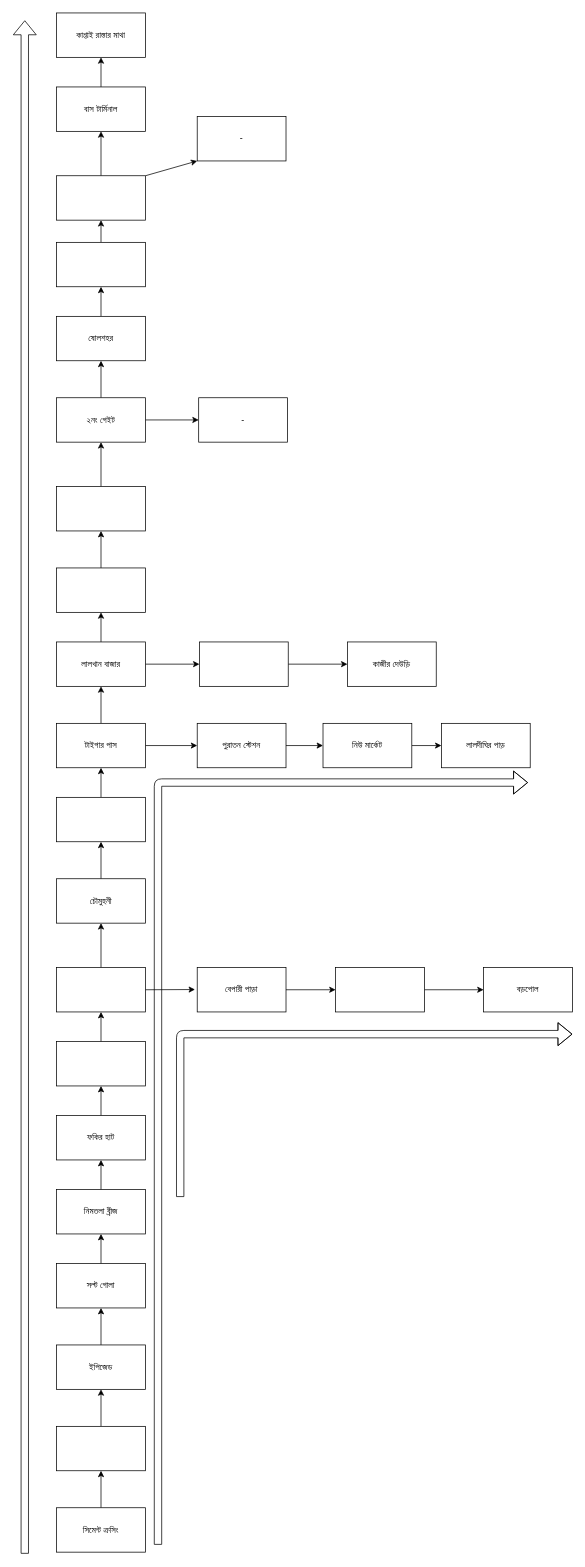
The diagram is 585 pixels wide and 1567 high, and some of its shapes have lost their labels. The shapes that lost their labels are listed below. From the top down, each one's centre as x and y in pixels, then its label:
At point 100,197: "বহদ্দারহাট".
At point 100,264: "মুরাদপুর".
At point 100,508: "জিইসি".
At point 100,589: "ওয়াসা".
At point 243,663: "স্টেডিয়াম".
At point 100,819: "দেওয়ান হাট".
At point 100,989: "আগ্রাবাদ".
At point 379,989: "ছোটপোল".
At point 100,1063: "বারিক বিল্ডিং".
At point 100,1448: "বন্দরটিলা".
